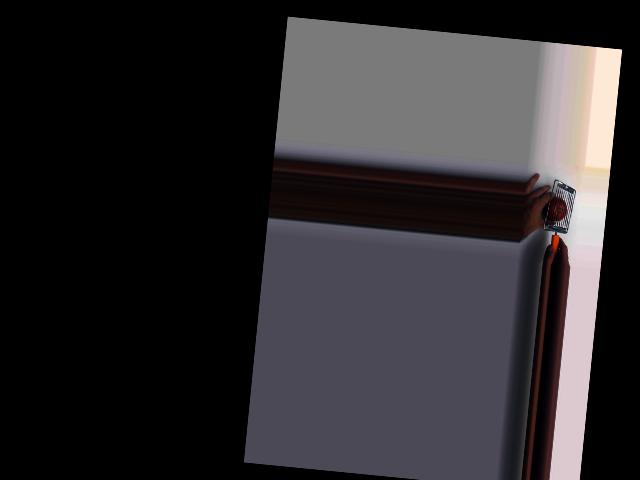tomato: (543, 196, 567, 223)
